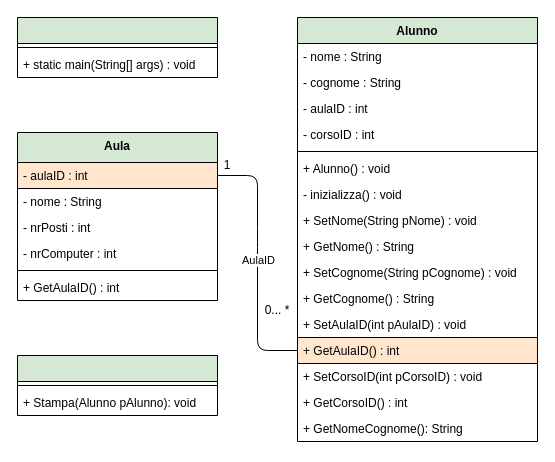
This 555x462 diagram has some shape labels left out. Each missing label, with the box of its shape:
Etichetta: (16, 354, 218, 416)
PrjScuola: (16, 16, 218, 78)
